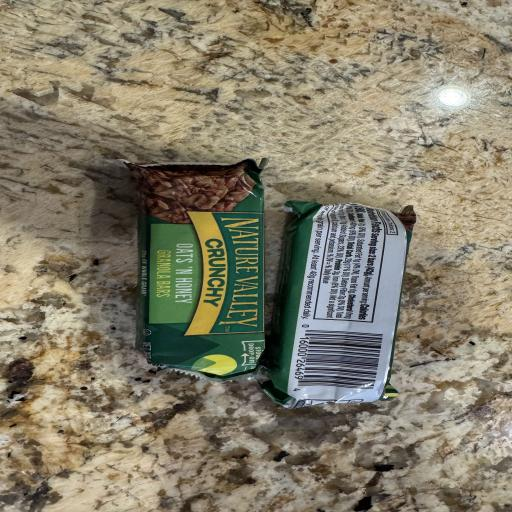granola: (263, 202, 415, 407), (125, 160, 264, 378)
